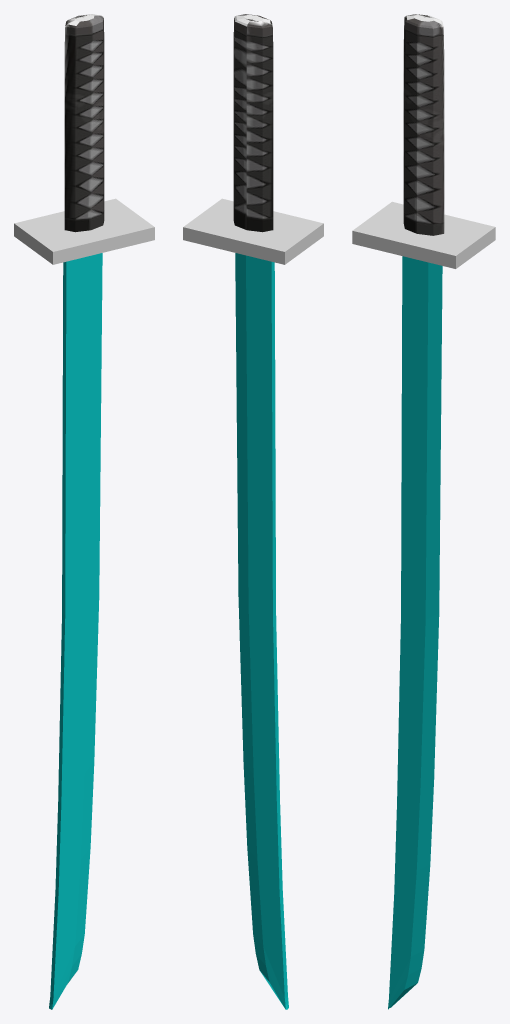
File: katana-projeto.glb
3 views of the same model, side by side, from view 1: azimuth 30°, elevation 25°; view 2: azimuth 150°, elevation 25°; view 3: azimuth 330°, elevation 25° (orthographic).
Parts seen in each view (by area): view 1: Cube.001, Cylinder, Cube; view 2: Cube.001, Cylinder, Cube; view 3: Cube.001, Cylinder, Cube.
Boxes of the visible parts, x1,y1,x2,y2 form: Cube.001: [49, 253, 102, 1009]; Cylinder: [64, 14, 104, 232]; Cube: [14, 198, 154, 264]; Cube.001: [235, 253, 288, 1009]; Cylinder: [233, 14, 273, 232]; Cube: [183, 198, 323, 264]; Cube.001: [388, 256, 442, 1009]; Cylinder: [403, 14, 444, 235]; Cube: [352, 201, 495, 268].
Size of the model in its own units: 0.845 by 7.79 by 0.5613.
2 materials, 1 textured.
